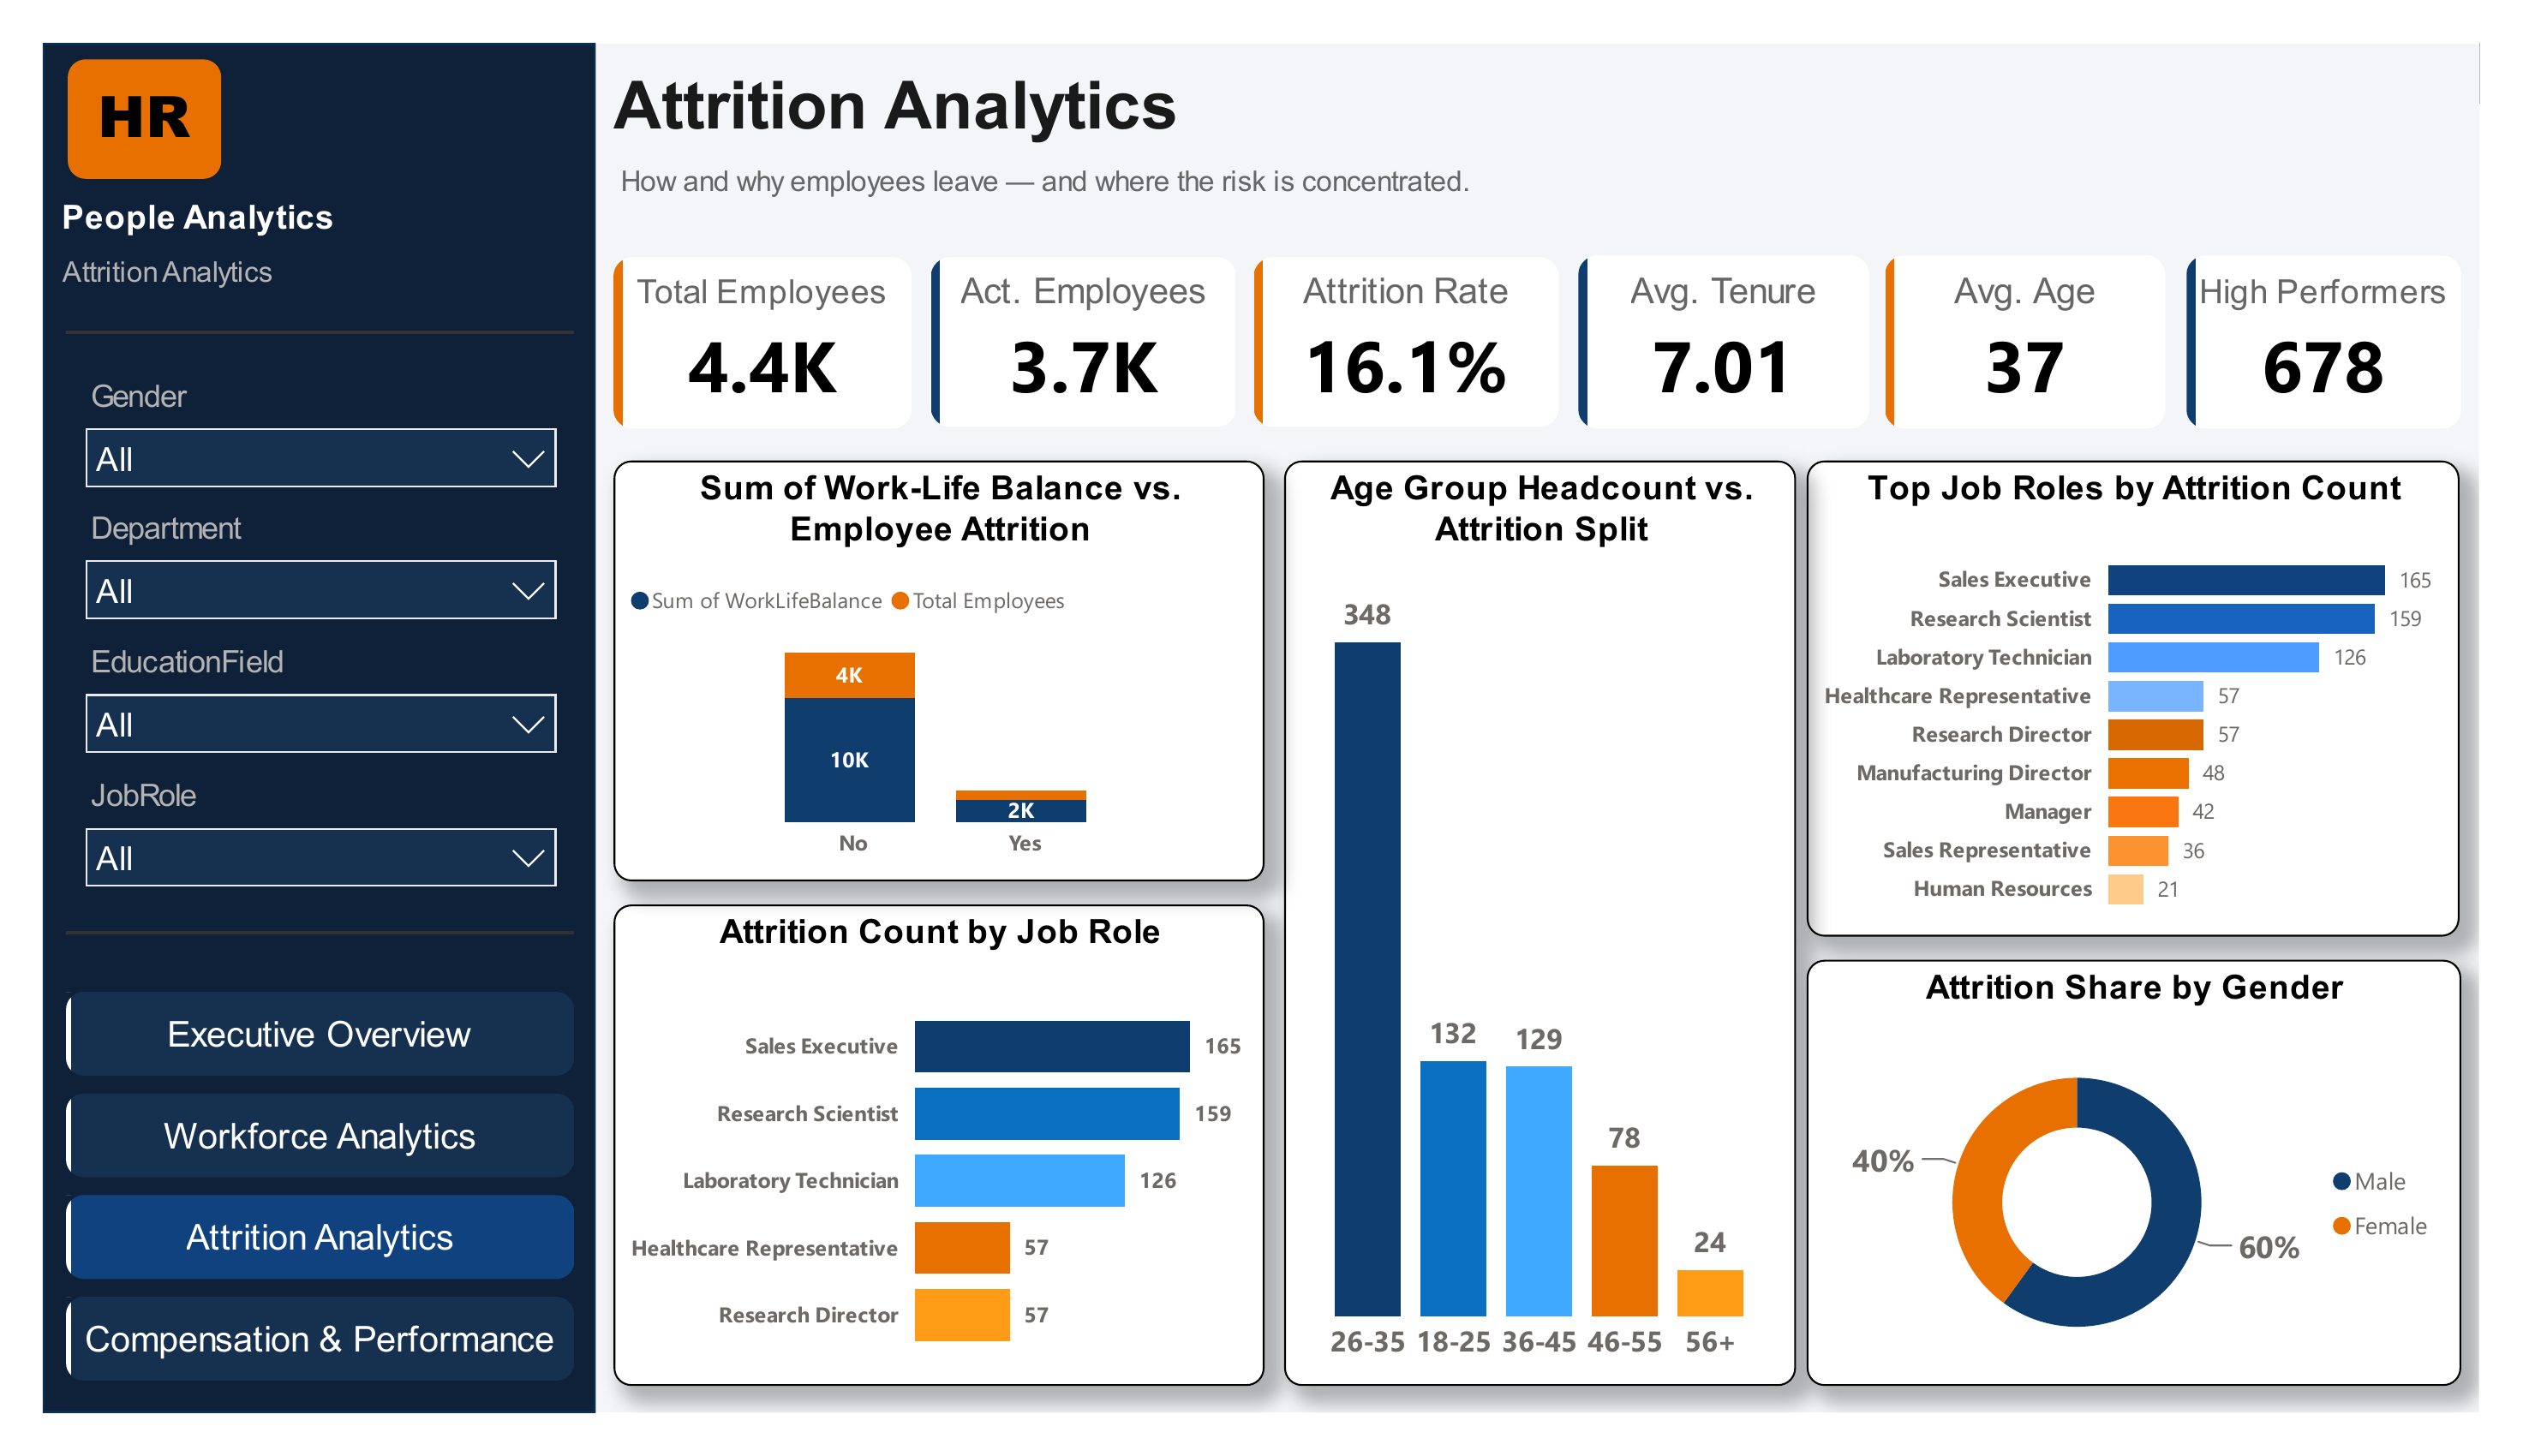

The page's visual inventory and layout, read from the dashboard file:
{"tool":"powerbi","page":{"name":"Attrition Analytics","canvas":[1366,768],"ordinal":2},"visuals":[{"type":"shape","box":[0,0,310,768.3],"z":0},{"type":"barChart","title":"\tTop Job Roles by Attrition Count","fields":{"Category":["EmployeeData.JobRole"],"Y":["EmployeeData.Attrition Counts"]},"box":[989.5,234,365.2,267.3],"z":0,"group":"g2"},{"type":"clusteredBarChart","title":"Attrition Count by Job Role","fields":{"Category":["EmployeeData.JobRole"],"Y":["Measuress.Employees Left"]},"box":[320,482.7,365.2,270.4],"z":1000,"group":"g2"},{"type":"pageNavigator","box":[13.3,531.7,285,218.3],"z":1000},{"type":"group","id":"g1","title":"Group 2","box":[13.6,184.4,284.2,302.4],"z":2000},{"type":"columnChart","title":"Age Group Headcount vs. Attrition Split","fields":{"Category":["EmployeeData.Age Group"],"Y":["Measuress.Employees Left"]},"box":[695.8,234.2,287.6,518.9],"z":2000,"group":"g2"},{"type":"textbox","box":[13.6,9.1,86.2,66.5],"z":3000},{"type":"donutChart","title":"Attrition Share by Gender","fields":{"Category":["EmployeeData.Gender"],"Y":["CountNonNull(EmployeeData.Attrition)"]},"box":[989.5,513.7,366.5,239.3],"z":3000,"group":"g2"},{"type":"textbox","box":[6,81,177.3,33.3],"z":4000},{"type":"columnChart","title":"Sum of Work-Life Balance vs. Employee Attrition","fields":{"Y":["Sum(EmployeeData.WorkLifeBalance)","Measuress.Total Employees"],"Category":["EmployeeData.Attrition"]},"box":[320,234,365.2,236.2],"z":4000,"group":"g2"},{"type":"shape","box":[13.3,150,284.4,24.4],"z":5000},{"type":"slicer","fields":{"Values":["EmployeeData.Department"]},"box":[13.6,258.1,284.5,72.3],"z":5000,"group":"g1"},{"type":"textbox","box":[6,114,251,36],"z":6000},{"type":"slicer","fields":{"Values":["EmployeeData.Gender"]},"box":[13.6,184.4,284.5,73.7],"z":7000,"group":"g1"},{"type":"shape","box":[13.3,486.7,284.4,24.4],"z":7000},{"type":"textbox","box":[315,8.3,573.3,55],"z":8000},{"type":"textbox","box":[319.1,62.7,519.1,29.1],"z":9000},{"type":"slicer","fields":{"Values":["EmployeeData.JobRole"]},"box":[13.6,408.3,284.5,78],"z":9000,"group":"g1"},{"type":"group","id":"g2","title":"Group 3","box":[320,234,1036,520],"z":10000},{"type":"cardVisual","title":"Total Employees","fields":{"Data":["Measuress.Total Employees"]},"box":[315.4,114.6,177.7,106.9],"z":11000},{"type":"slicer","fields":{"Values":["EmployeeData.EducationField"]},"box":[13.6,333.2,284.5,75.1],"z":11000,"group":"g1"},{"type":"cardVisual","title":"Avearage Tenure","fields":{"Data":["Measuress.Average Tenure"]},"box":[855.8,114.2,173.3,107.5],"z":12000},{"type":"cardVisual","title":"Active Employees","fields":{"Data":["Measuress.Active Employees"]},"box":[492.9,114.9,181.4,105.8],"z":13000},{"type":"cardVisual","title":"Attrition Rate","fields":{"Data":["Measuress.Attrition Rate"]},"box":[674.3,114.9,181.4,105.8],"z":14000},{"type":"cardVisual","title":"Average Age","fields":{"Data":["Measuress.Average Age"]},"box":[1028.3,114.2,167.5,107.5],"z":15000},{"type":"cardVisual","title":"High Performers","fields":{"Data":["Measuress.High Performers"]},"box":[1196.7,114.2,164.2,107.5],"z":16000}]}

Visuals, with their boxes on the page's 1366x768 design canvas (x1, y1, x2, y2). These are canvas units, not pixel positions in the 2523x1456 screenshot, which may show the page scaled, cropped or inside an application window:
shape: 0:0:310:768
"	Top Job Roles by Attrition Count" barChart: 990:234:1355:501
"Attrition Count by Job Role" clusteredBarChart: 320:483:685:753
pageNavigator: 13:532:298:750
"Group 2" group: 14:184:298:487
"Age Group Headcount vs. Attrition Split" columnChart: 696:234:983:753
textbox: 14:9:100:76
"Attrition Share by Gender" donutChart: 990:514:1356:753
textbox: 6:81:183:114
"Sum of Work-Life Balance vs. Employee Attrition" columnChart: 320:234:685:470
shape: 13:150:298:174
slicer - EmployeeData.Department: 14:258:298:330
textbox: 6:114:257:150
slicer - EmployeeData.Gender: 14:184:298:258
shape: 13:487:298:511
textbox: 315:8:888:63
textbox: 319:63:838:92
slicer - EmployeeData.JobRole: 14:408:298:486
"Group 3" group: 320:234:1356:754
"Total Employees" cardVisual: 315:115:493:222
slicer - EmployeeData.EducationField: 14:333:298:408
"Avearage Tenure" cardVisual: 856:114:1029:222
"Active Employees" cardVisual: 493:115:674:221
"Attrition Rate" cardVisual: 674:115:856:221
"Average Age" cardVisual: 1028:114:1196:222
"High Performers" cardVisual: 1197:114:1361:222
